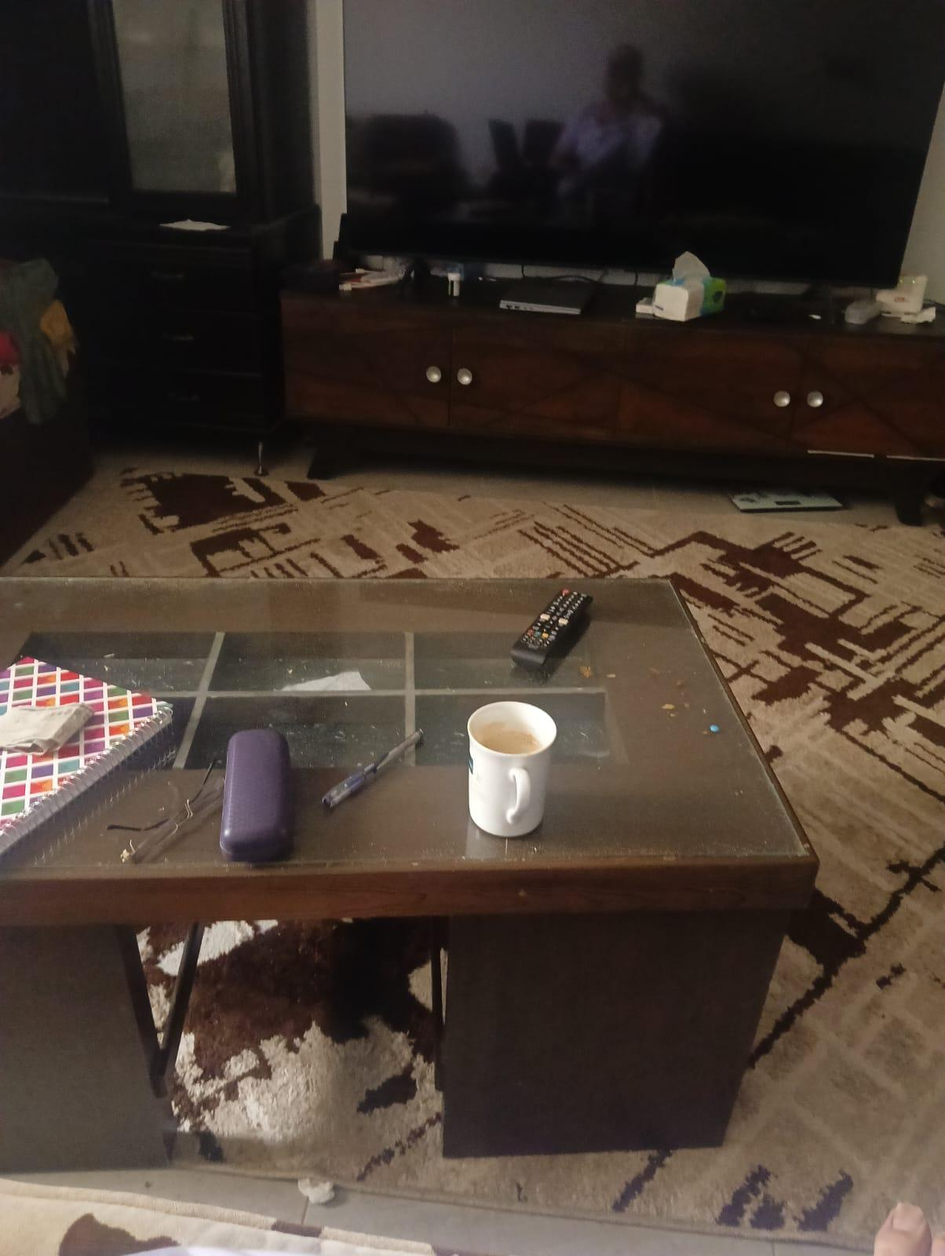cup: (467, 701, 556, 837)
